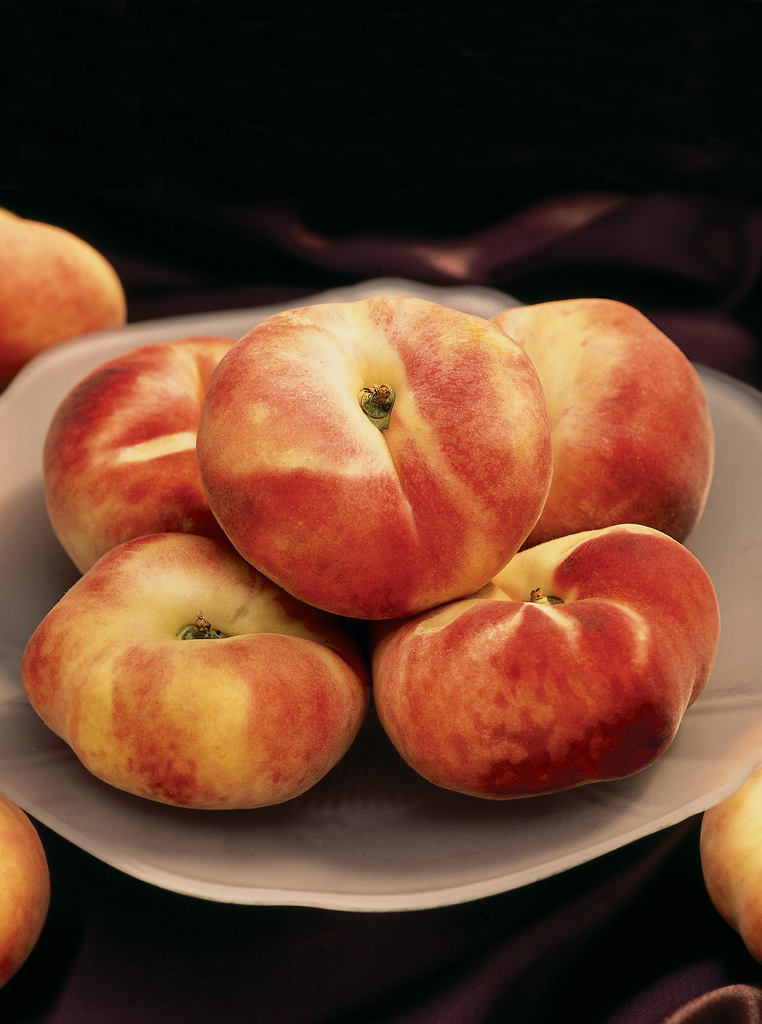Apple: (189, 306, 551, 625), (16, 527, 376, 821), (380, 552, 703, 825), (488, 287, 716, 546), (42, 336, 236, 572), (0, 210, 133, 380), (697, 757, 761, 959), (0, 791, 47, 988)
